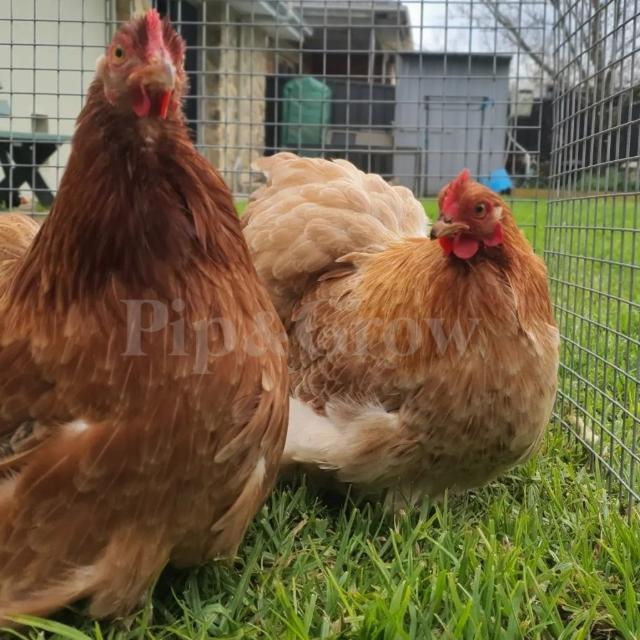Chicken: (0, 9, 287, 629), (245, 152, 559, 505)
